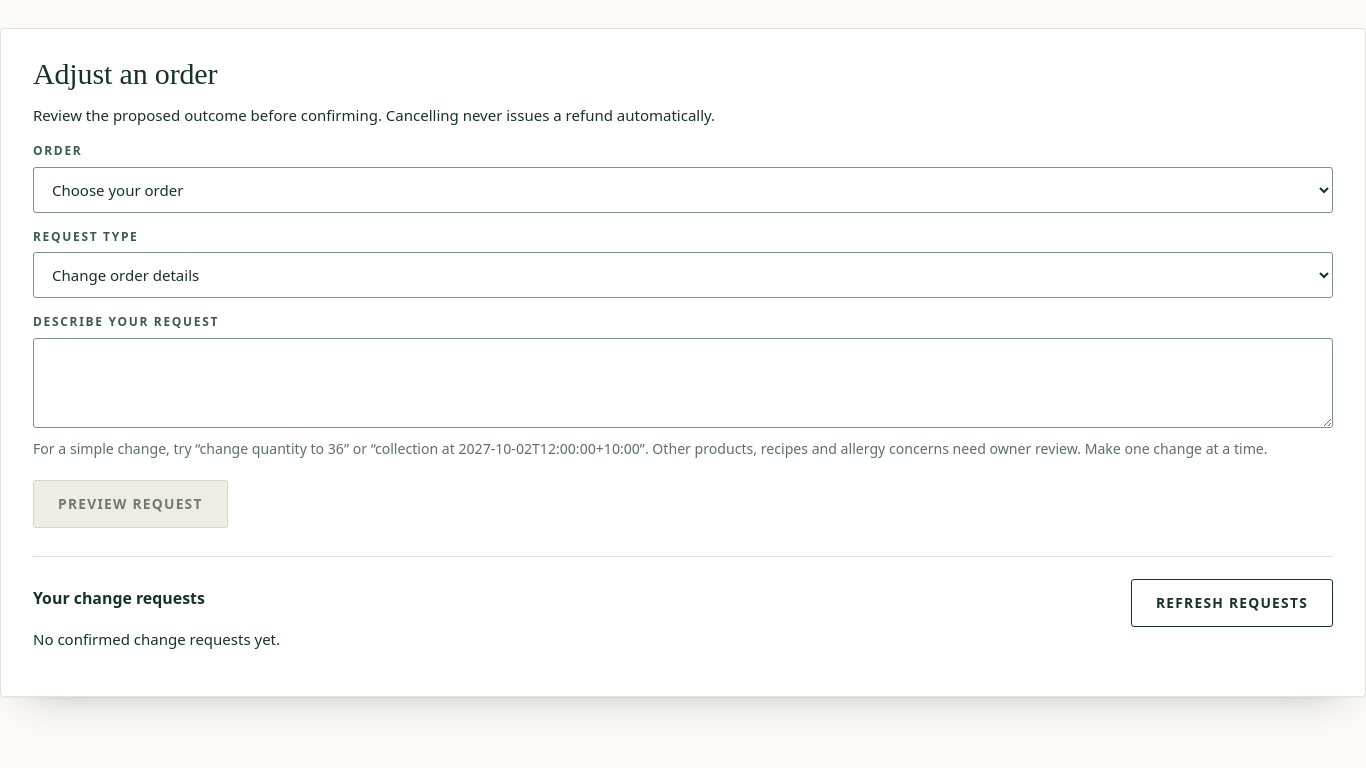
Test: reports failed saves, keeps the same confirmation for retry and reports success only afterwards
The image size is (1366, 768).
Select "24 cupcakes · #order-1 (Draft)" in the dropdown labelled "Order" at [683, 190], box [33, 167, 1333, 213]
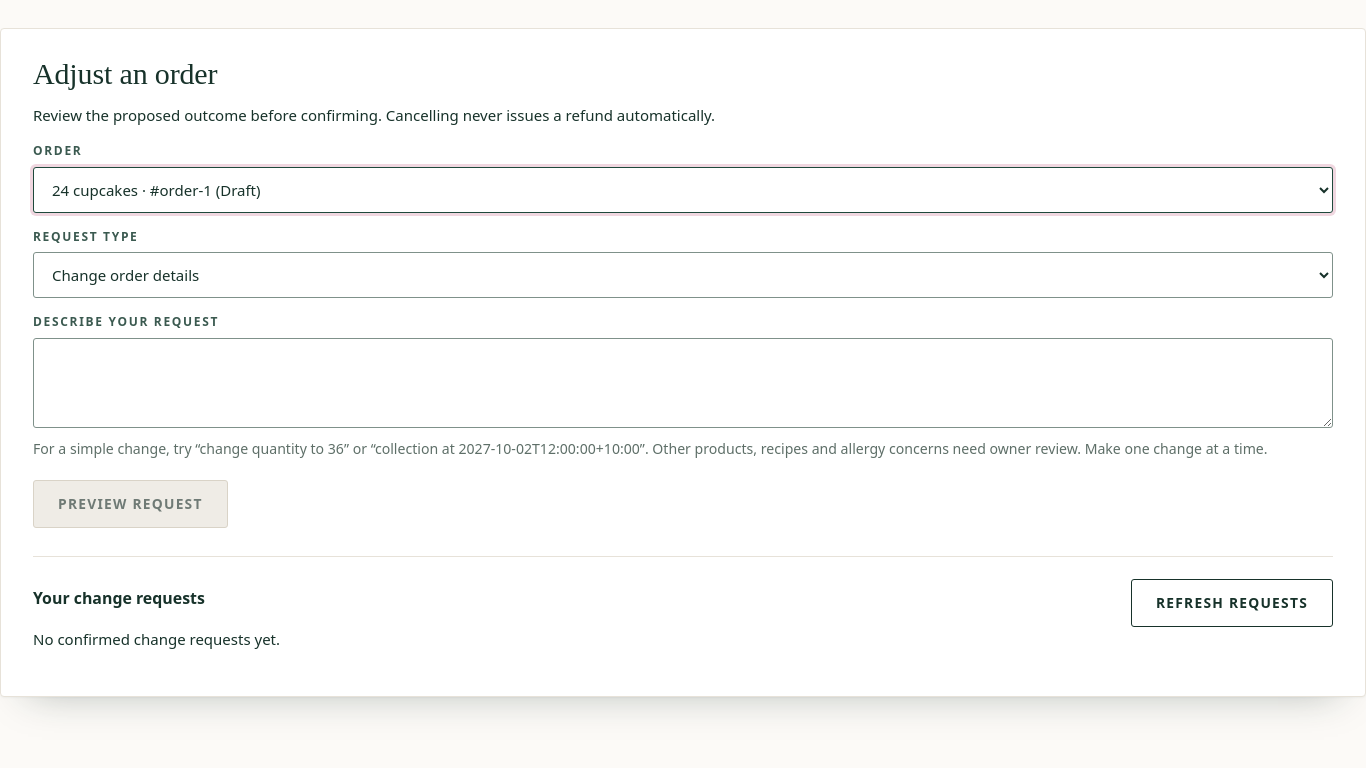
Type "change quantity to 36" into the text box labelled "Describe your request" at [683, 383], box [33, 338, 1333, 428]
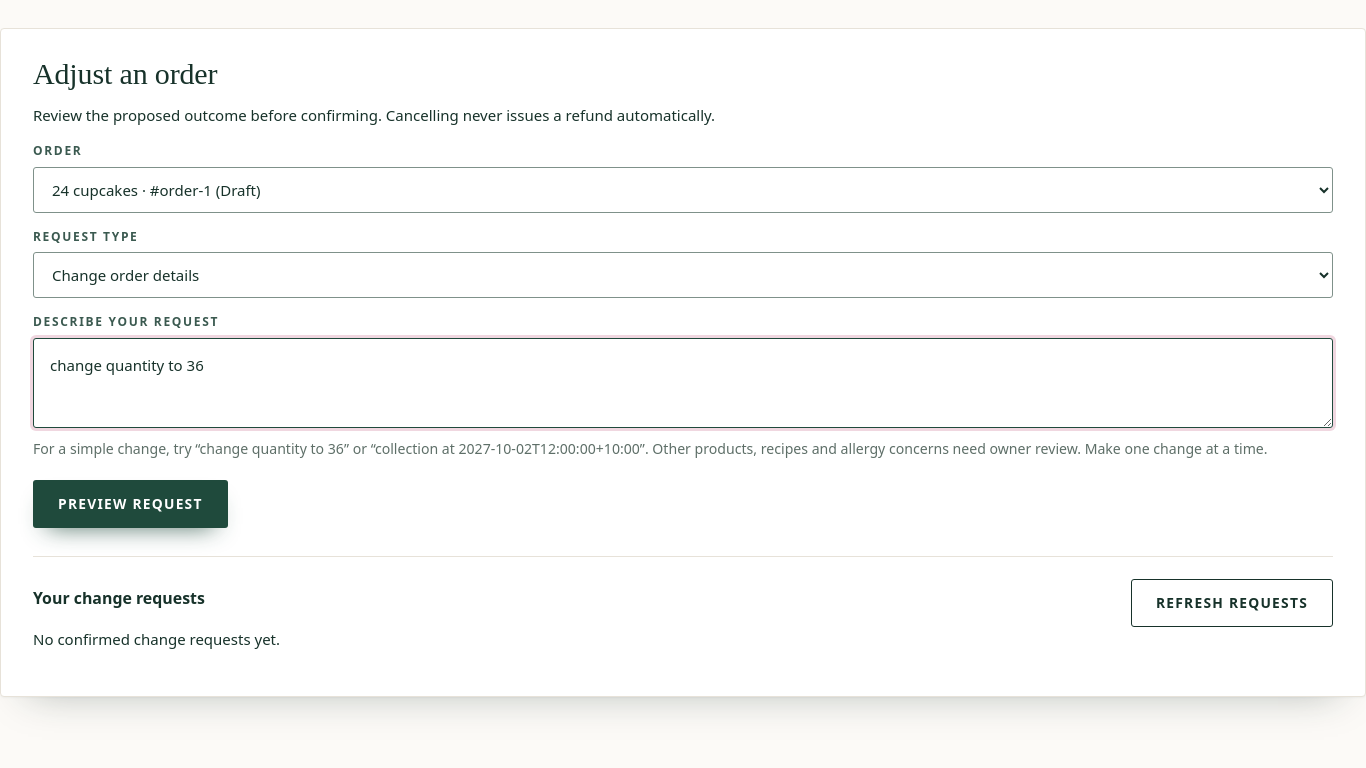
Click the button "Preview request" at [130, 504], box [33, 480, 228, 528]
(page scrolled)
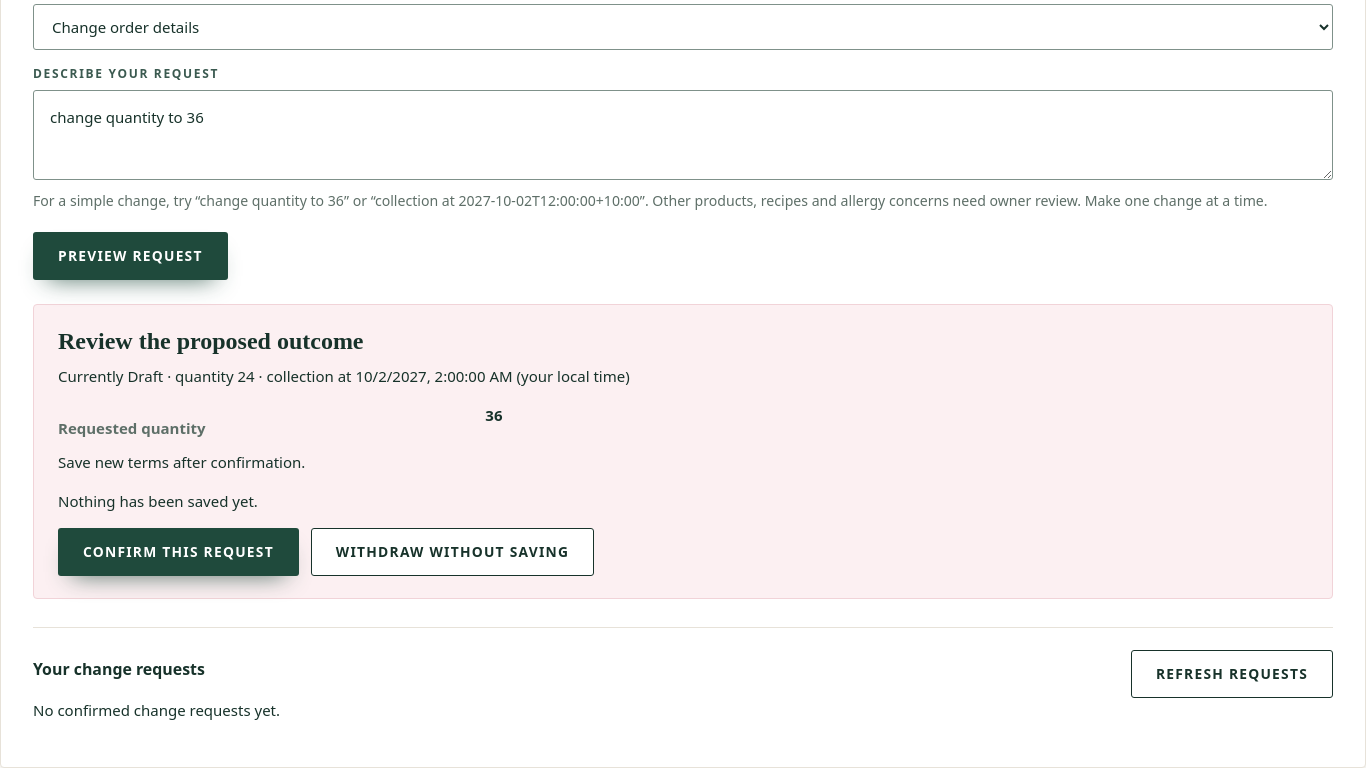
Expected: the heading "Review the proposed outcome" is shown, [58, 328, 364, 354]
Click the button "Confirm this request" at [178, 552], box [58, 528, 299, 576]
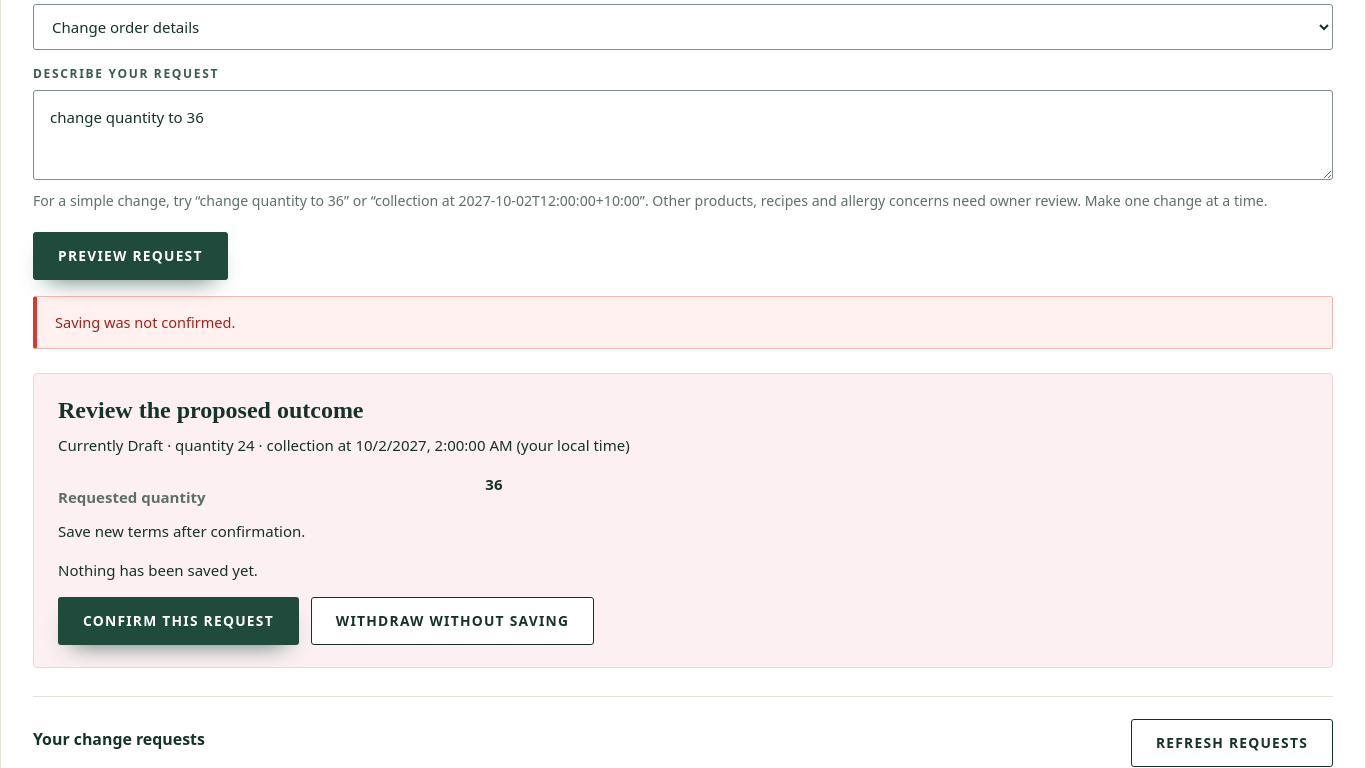
Expected: the text "Your confirmed request was saved." is not shown
Expected: the message shows "Saving was not confirmed", [55, 312, 235, 332]
Click the button "Confirm this request" at [178, 621], box [58, 597, 299, 645]
(page scrolled)
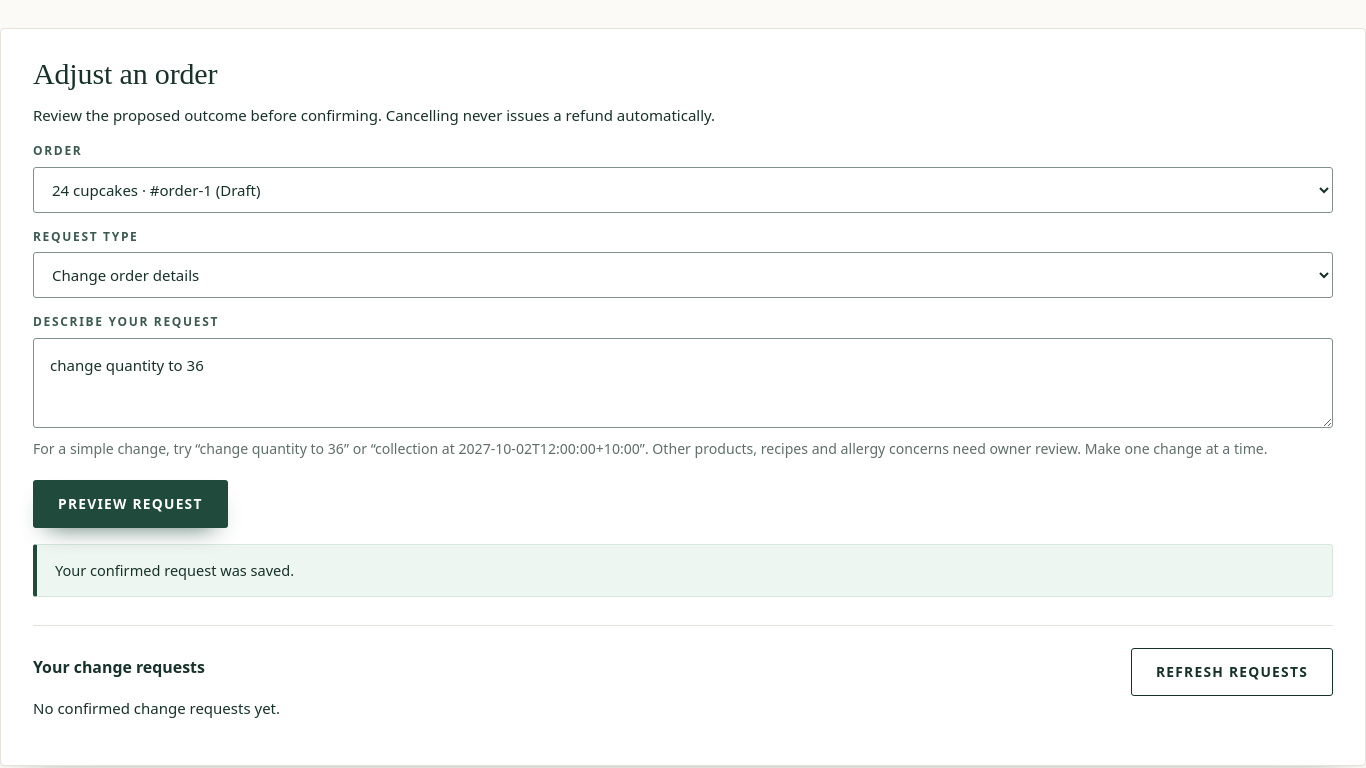
Expected: the text "Your confirmed request was saved." is shown, [33, 544, 1333, 597]
